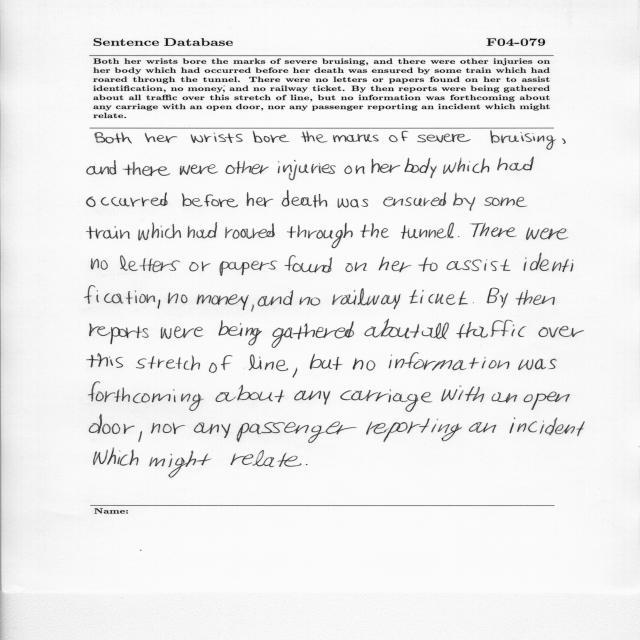word: (88, 382, 204, 411), (236, 421, 357, 443), (366, 418, 462, 442), (272, 321, 354, 348), (389, 353, 509, 371), (340, 389, 432, 412), (150, 451, 212, 478), (287, 223, 353, 248), (332, 288, 401, 309), (510, 418, 585, 437), (85, 286, 155, 305), (490, 130, 556, 150), (457, 320, 526, 338), (90, 323, 149, 344), (87, 192, 168, 207), (231, 450, 301, 467), (216, 385, 285, 402), (278, 160, 336, 180), (365, 319, 419, 339), (219, 320, 262, 345), (120, 255, 180, 272), (136, 356, 200, 371), (524, 253, 574, 272), (220, 260, 278, 276), (89, 414, 135, 434), (401, 222, 454, 239), (383, 193, 446, 207), (410, 290, 468, 305), (285, 255, 332, 273), (182, 193, 238, 208), (197, 294, 249, 310), (524, 392, 570, 410), (94, 448, 139, 466), (225, 223, 275, 239), (138, 223, 181, 241), (447, 259, 511, 271), (282, 191, 327, 208), (443, 158, 490, 174), (442, 386, 485, 403), (249, 354, 288, 371), (404, 158, 437, 178), (123, 162, 170, 176), (471, 223, 516, 237), (258, 290, 293, 307), (516, 290, 555, 305), (225, 161, 269, 174), (87, 226, 130, 239), (161, 326, 204, 339), (194, 423, 231, 438), (526, 227, 568, 240), (87, 353, 123, 368), (310, 354, 343, 370), (191, 133, 243, 143), (497, 157, 534, 171), (294, 391, 331, 405), (538, 326, 584, 337), (379, 257, 412, 272), (417, 134, 471, 143), (187, 223, 217, 239), (422, 323, 449, 340), (95, 132, 132, 144), (253, 131, 290, 143), (486, 288, 508, 308), (87, 160, 116, 175), (360, 223, 389, 238), (485, 197, 528, 207), (180, 164, 218, 175), (453, 192, 475, 211), (518, 359, 556, 370), (209, 355, 232, 373), (151, 422, 185, 434), (372, 159, 401, 173), (247, 192, 274, 207), (333, 134, 379, 142), (301, 131, 328, 143), (145, 133, 177, 143), (338, 198, 368, 208), (418, 257, 438, 272), (469, 422, 496, 433), (353, 358, 375, 371), (492, 392, 517, 403), (189, 262, 211, 272), (168, 293, 188, 304), (346, 262, 367, 272), (389, 131, 408, 142), (91, 258, 108, 270), (345, 165, 365, 174), (300, 297, 320, 305), (138, 431, 142, 442), (293, 368, 297, 378), (158, 300, 161, 309), (562, 138, 566, 144), (251, 305, 254, 312), (306, 464, 308, 465), (458, 236, 459, 237), (473, 303, 474, 304)
